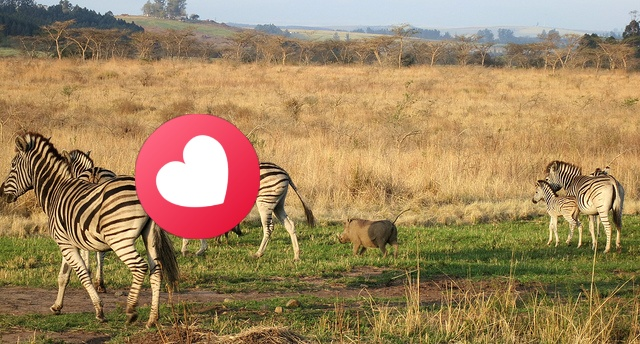love: (135, 114, 260, 239)
